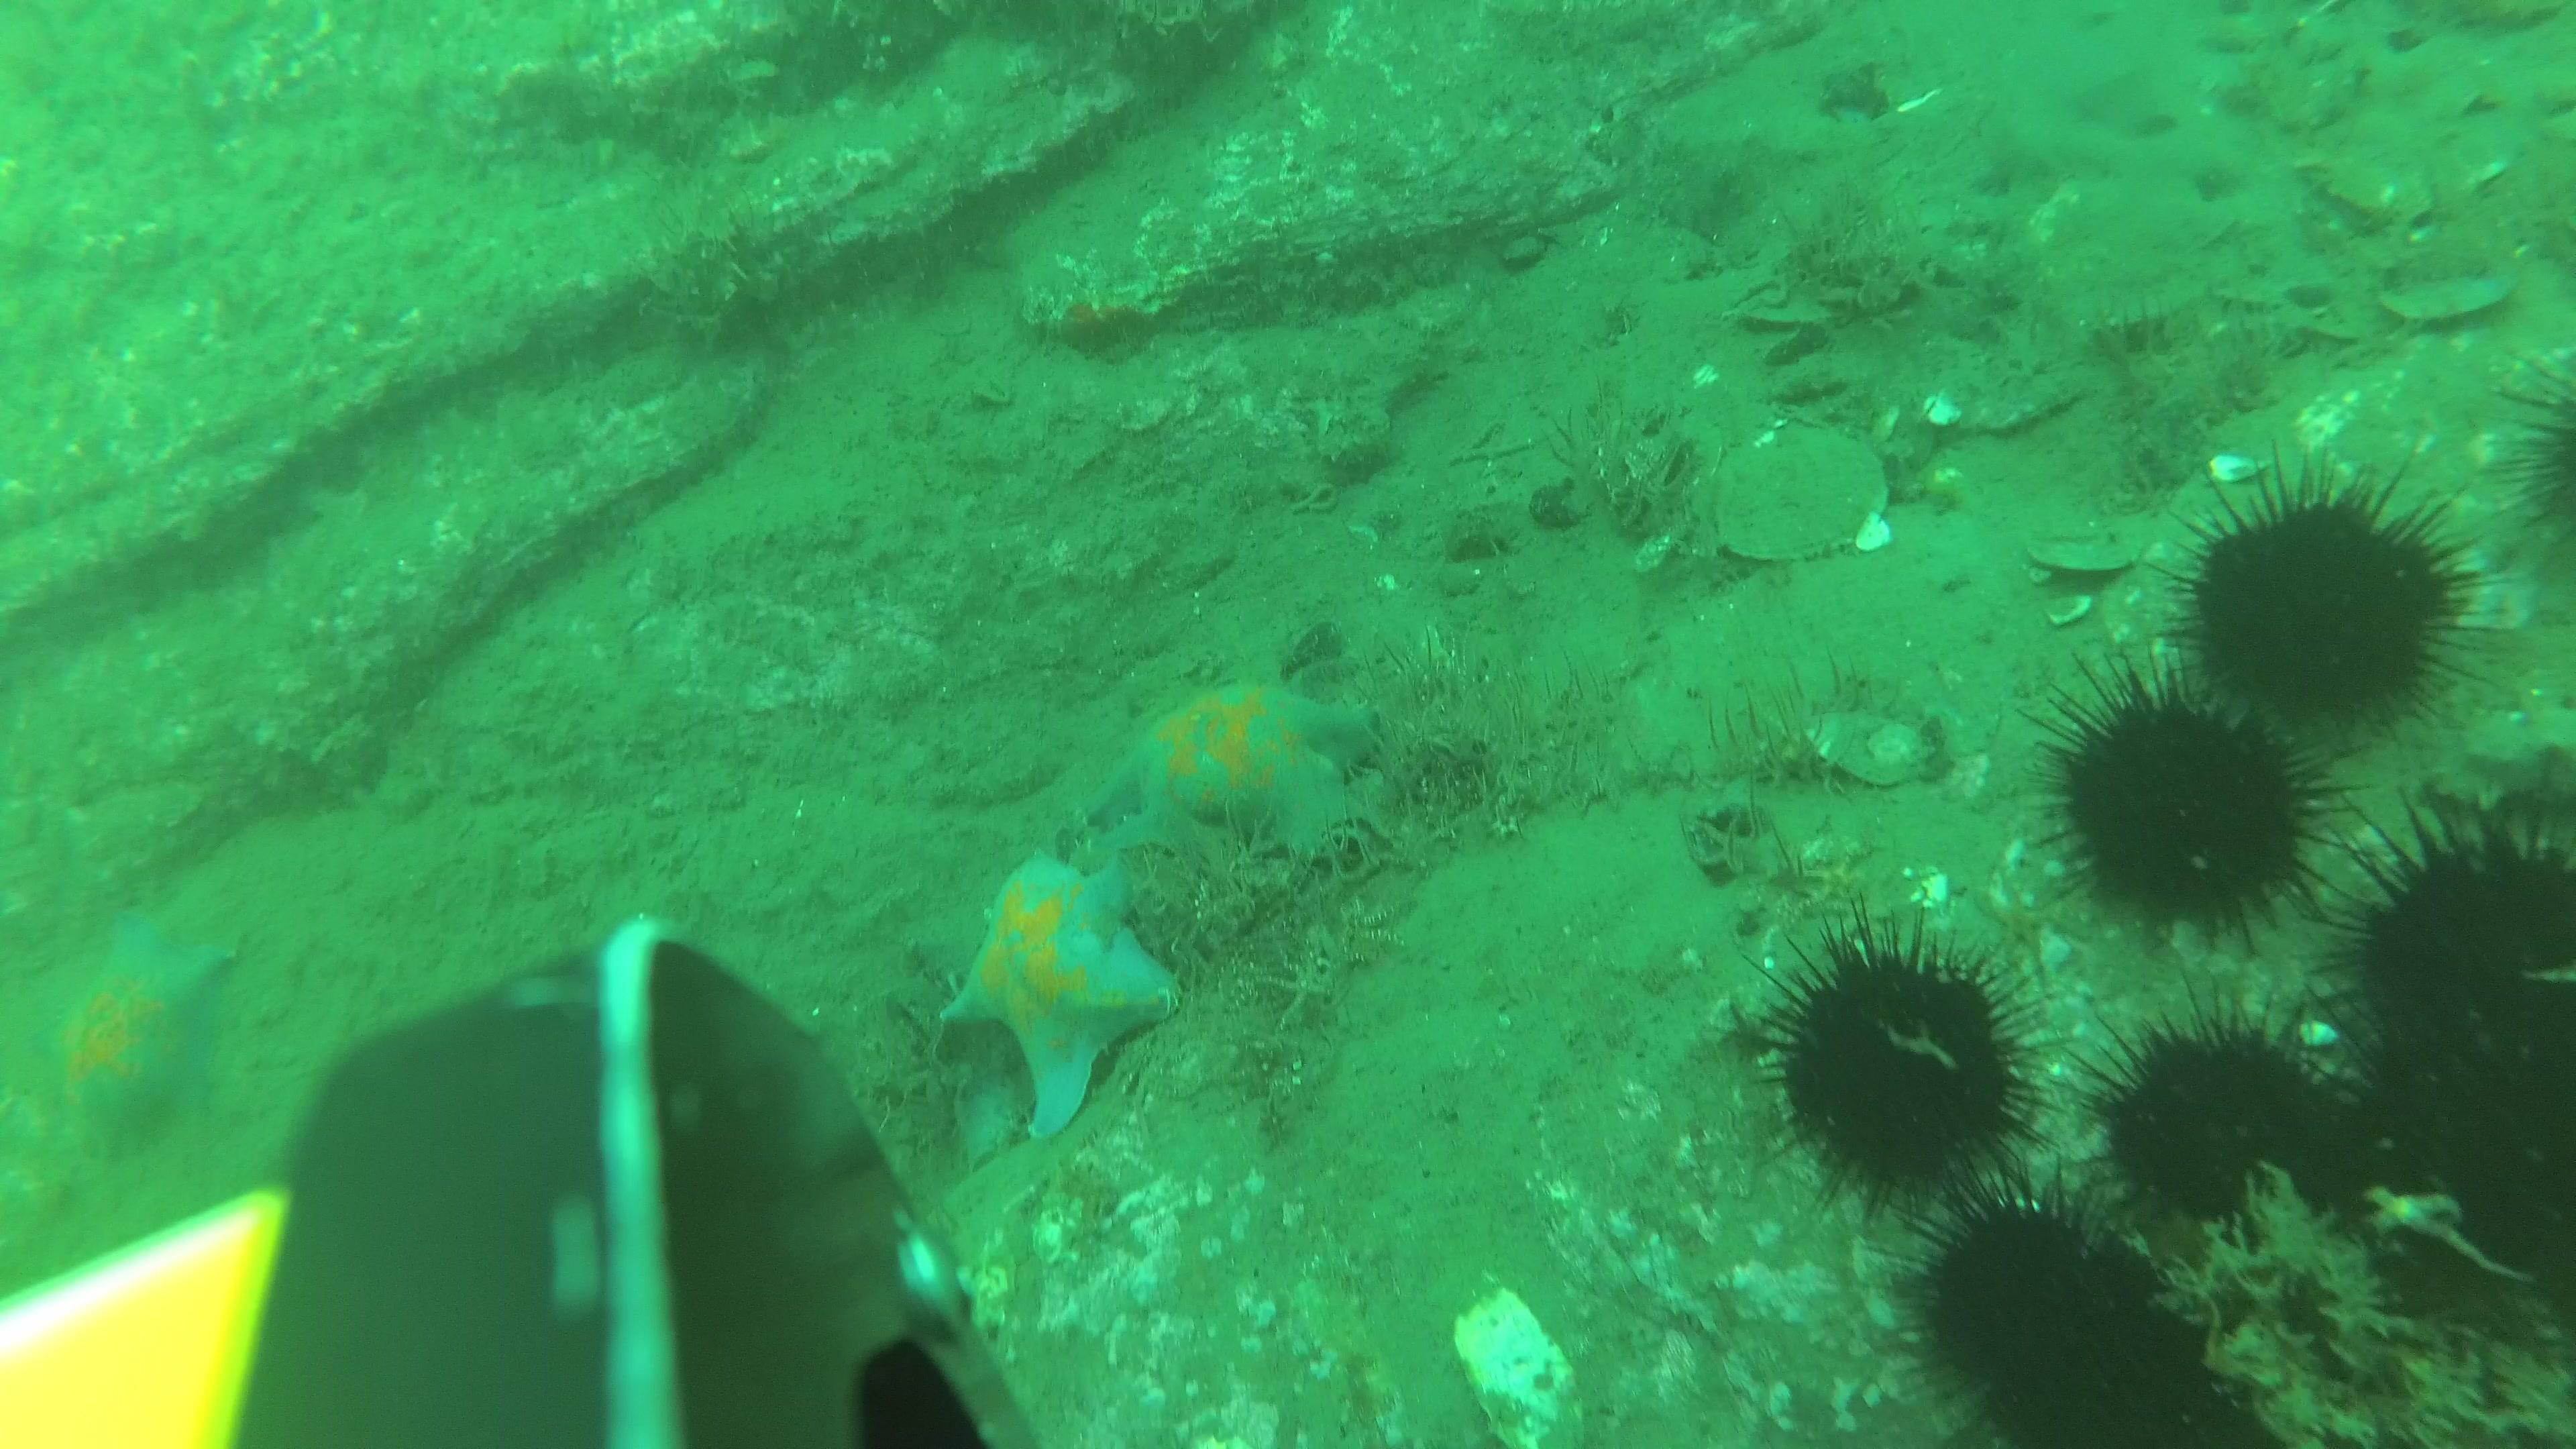echinus: (2158, 444, 2502, 747), (2040, 648, 2332, 954), (1748, 911, 2038, 1217), (2068, 984, 2362, 1254), (2341, 798, 2576, 1093), (2346, 1028, 2576, 1318), (1920, 1182, 2125, 1405), (1999, 1316, 2219, 1449), (2503, 345, 2576, 591)
holothurian: (2463, 651, 2576, 796)
scallop: (1713, 432, 1893, 564), (1806, 708, 1928, 789), (2029, 520, 2137, 582)
starfish: (943, 842, 1178, 1138), (39, 902, 235, 1175), (1115, 683, 1375, 855)
